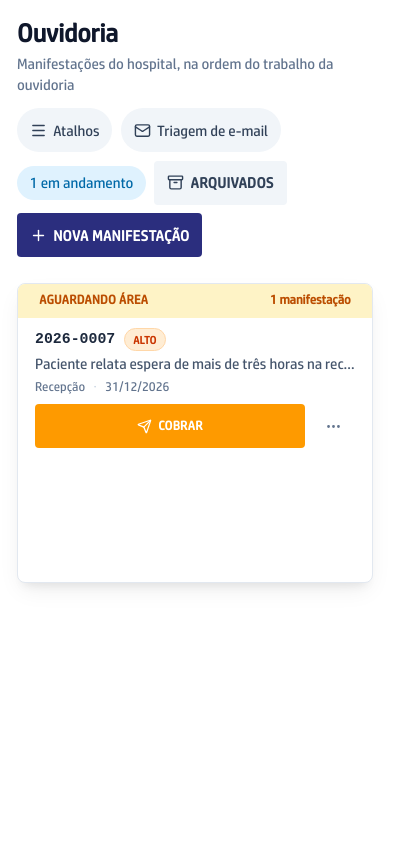
Test: no celular os atalhos colapsam em menu (RN-77) › o menu fecha no Escape, como o resto dos flutuantes da casa
Expected: the text "2026-0007" is shown, [35,329,115,350]
Click the button "Atalhos": (65, 130) [17,108,112,152]
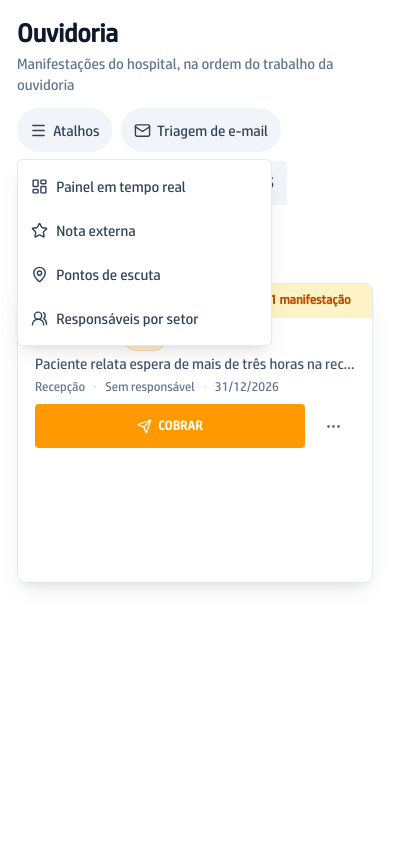
Result: the link "Painel em tempo real" is shown at [31,178,186,195]
Press Escape
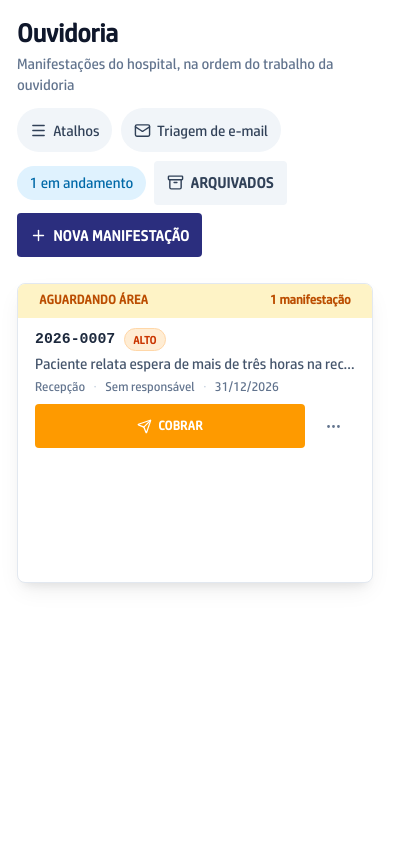
Result: no the link "Painel em tempo real" are shown
